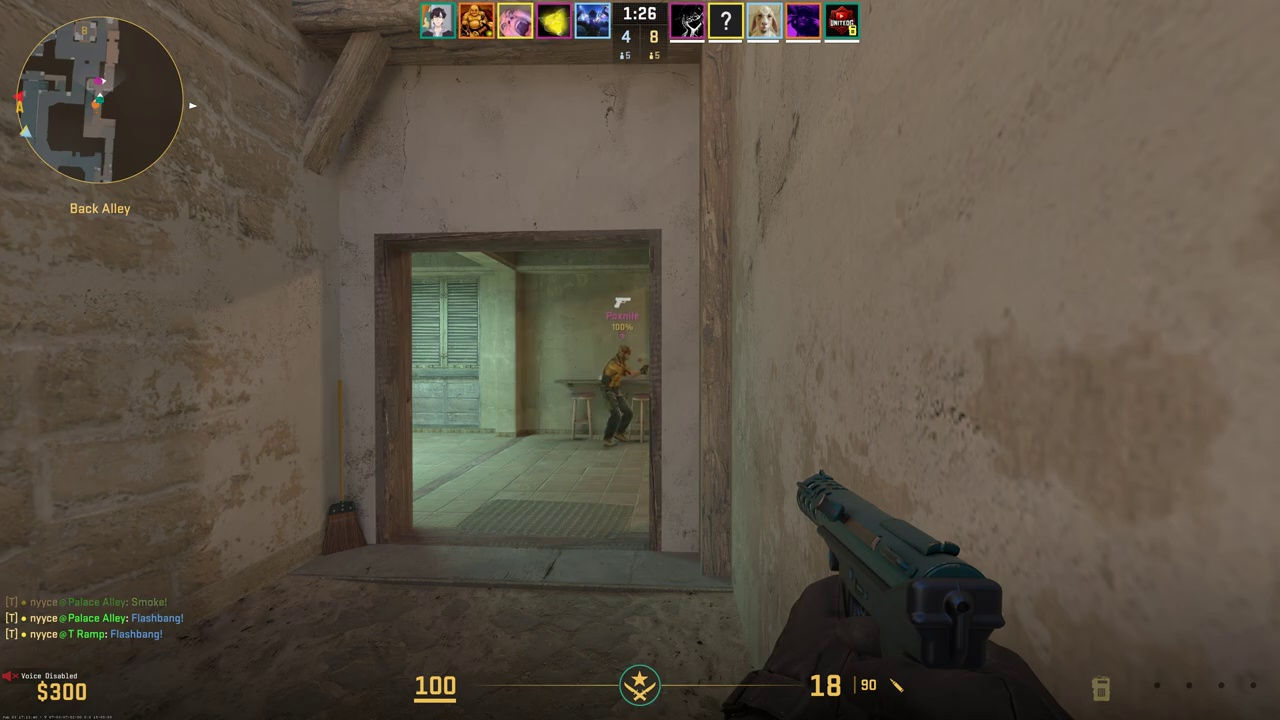Terrorist: (601, 346, 635, 446)
